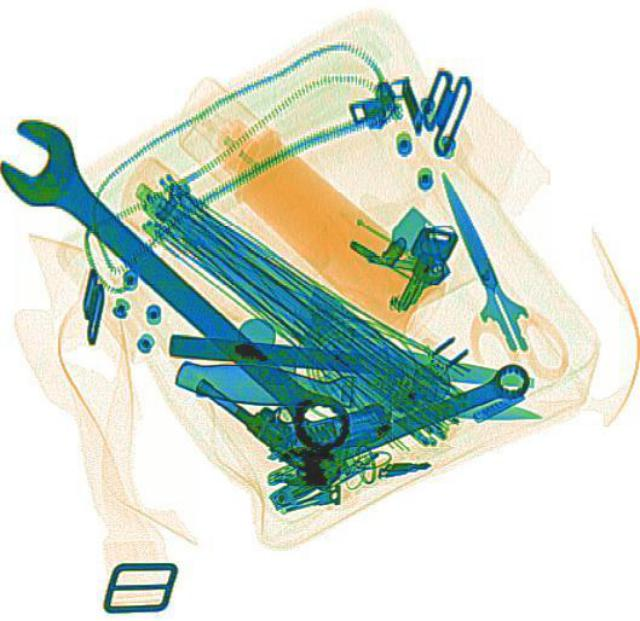Gun: (192, 311, 396, 491)
Knife: (171, 353, 541, 432), (418, 164, 540, 357), (167, 331, 537, 392)
Wrench: (0, 127, 372, 464), (269, 355, 536, 491)
